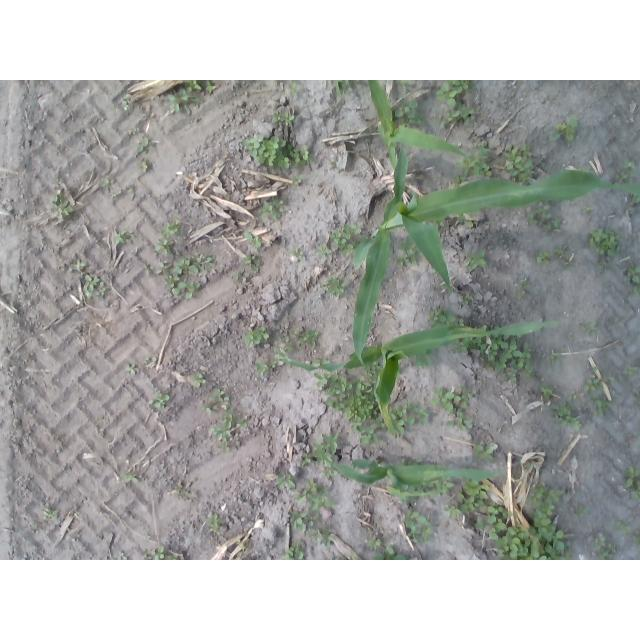Maize: (353, 146, 640, 367), (280, 321, 565, 441), (363, 80, 466, 168), (319, 452, 507, 497)
Weeds: (494, 526, 570, 560), (481, 336, 531, 368), (243, 137, 290, 168), (504, 146, 532, 183), (294, 489, 338, 512), (169, 88, 203, 116), (404, 510, 432, 543), (345, 395, 378, 422), (175, 254, 216, 275), (590, 229, 621, 256), (391, 403, 429, 425), (456, 153, 492, 176), (309, 433, 340, 459), (527, 492, 555, 516), (461, 477, 490, 500), (446, 409, 474, 432), (476, 520, 509, 539), (431, 388, 455, 412), (260, 198, 285, 220), (243, 326, 269, 347), (328, 374, 355, 394), (527, 206, 551, 227), (394, 99, 419, 118), (276, 470, 297, 491), (437, 83, 456, 106), (374, 548, 407, 561), (292, 146, 313, 166), (429, 310, 455, 326), (457, 494, 481, 511), (298, 329, 319, 347), (594, 396, 612, 417), (474, 445, 495, 463), (467, 251, 487, 269), (149, 392, 170, 409), (323, 397, 346, 412), (532, 510, 553, 526), (360, 430, 379, 447), (285, 544, 304, 561), (414, 352, 434, 368), (142, 545, 164, 559), (319, 460, 338, 476), (335, 80, 354, 96), (627, 465, 640, 488), (205, 513, 219, 534), (243, 231, 261, 247), (355, 379, 374, 394), (155, 239, 174, 254), (462, 337, 487, 348), (328, 278, 345, 294), (399, 236, 414, 254), (54, 201, 72, 216), (213, 427, 232, 441), (628, 261, 640, 283), (458, 104, 474, 120), (314, 371, 330, 387), (443, 505, 461, 519), (545, 489, 563, 503), (291, 510, 306, 526), (438, 481, 455, 495), (308, 477, 321, 495), (163, 222, 177, 238), (188, 281, 201, 298), (540, 384, 553, 401), (320, 528, 333, 544), (189, 374, 205, 387), (554, 404, 570, 417), (453, 80, 470, 92), (584, 379, 601, 391), (343, 223, 361, 234), (137, 138, 150, 153), (164, 276, 180, 288), (124, 362, 140, 374), (87, 276, 99, 292), (368, 535, 381, 549), (172, 282, 186, 295), (306, 514, 320, 527), (273, 110, 287, 123), (489, 502, 504, 514), (366, 362, 378, 377), (455, 394, 470, 406), (257, 362, 268, 378), (156, 262, 169, 275), (459, 216, 473, 228), (446, 110, 460, 122), (537, 250, 551, 262), (583, 323, 598, 334), (537, 483, 548, 498), (318, 242, 330, 255), (202, 403, 214, 416), (220, 414, 232, 427), (565, 125, 576, 139), (571, 417, 582, 431), (617, 521, 631, 532), (291, 248, 310, 256), (301, 452, 311, 467), (104, 178, 116, 190), (74, 258, 86, 270), (398, 255, 411, 266), (566, 115, 579, 126), (351, 421, 364, 432), (212, 389, 225, 400), (285, 114, 296, 127), (617, 169, 627, 183), (43, 509, 57, 519), (95, 281, 105, 295), (461, 386, 476, 395), (274, 345, 293, 352), (343, 244, 354, 256), (548, 131, 560, 142), (624, 159, 636, 170), (236, 418, 248, 429), (551, 216, 562, 228), (548, 353, 560, 364), (554, 245, 567, 255), (463, 294, 473, 307), (189, 80, 202, 90), (205, 82, 215, 95), (245, 253, 256, 264), (335, 239, 346, 250), (233, 269, 245, 279), (124, 474, 139, 482), (623, 366, 638, 374), (121, 94, 131, 106), (599, 548, 609, 560), (314, 359, 330, 366), (508, 367, 516, 381), (487, 513, 498, 523), (398, 80, 409, 90), (631, 194, 640, 206), (144, 264, 153, 276), (520, 280, 533, 288), (603, 374, 616, 382), (331, 231, 341, 241), (455, 173, 465, 183), (567, 391, 577, 401), (219, 442, 230, 451), (118, 230, 126, 242), (118, 552, 128, 561), (479, 145, 488, 155), (51, 196, 61, 205), (562, 415, 571, 425), (556, 122, 567, 130), (138, 161, 146, 172), (581, 205, 592, 213), (113, 189, 122, 198), (129, 127, 139, 135), (450, 348, 466, 353), (630, 489, 638, 499), (275, 353, 288, 359), (578, 505, 585, 516), (405, 118, 413, 127), (628, 168, 637, 176), (337, 394, 347, 401), (453, 341, 463, 348), (222, 405, 233, 411), (291, 83, 297, 94), (127, 230, 135, 238), (526, 368, 534, 376), (545, 224, 552, 233), (607, 543, 613, 553), (599, 259, 607, 266), (518, 293, 526, 300), (295, 178, 302, 186), (84, 274, 92, 281), (596, 540, 604, 547), (414, 117, 423, 123), (440, 119, 446, 128), (174, 485, 183, 491), (562, 260, 571, 266), (636, 480, 640, 493), (634, 285, 639, 295), (145, 534, 152, 541), (291, 329, 298, 336), (279, 337, 286, 344), (174, 219, 181, 226), (559, 401, 566, 408), (343, 231, 351, 237), (301, 524, 307, 532), (165, 555, 177, 559), (456, 319, 464, 325), (271, 361, 278, 367), (593, 365, 600, 371), (569, 333, 574, 341), (635, 536, 640, 544), (143, 357, 149, 363), (526, 423, 532, 429), (552, 406, 559, 411), (349, 556, 355, 561), (129, 186, 134, 192), (614, 318, 620, 323), (223, 397, 229, 401), (590, 374, 596, 378)
